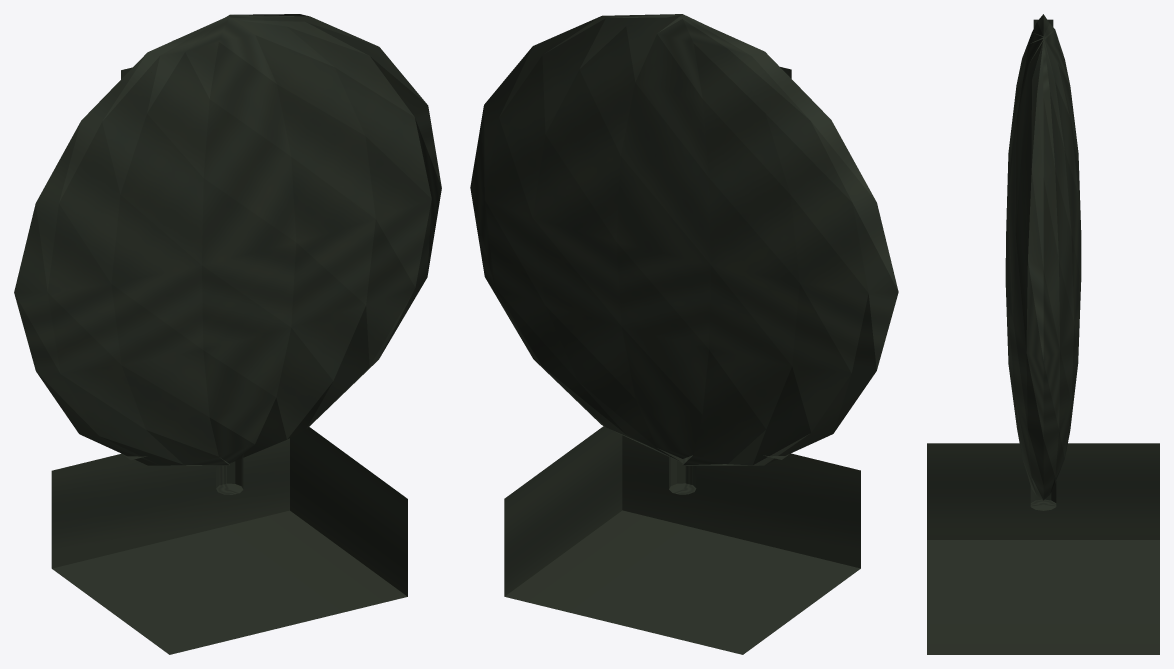
Rendered from env_radar_dish_dome.glb.
The picture shows the model from 3 angles, left to right: view 1: azimuth 30°, elevation 25°; view 2: azimuth 150°, elevation 25°; view 3: azimuth 270°, elevation 25°; orthographic projection.
Visible parts, largest first — view 1: env_radar_dish_dome; view 2: env_radar_dish_dome; view 3: env_radar_dish_dome.
Part boxes in pixels (bbox=[...]): env_radar_dish_dome: bbox=[14, 14, 441, 654]; env_radar_dish_dome: bbox=[470, 14, 898, 654]; env_radar_dish_dome: bbox=[927, 14, 1159, 654].
Size of the model in its own units: 2.51 by 3.19 by 1.2.
Materials: 1 (1 with a texture image).
